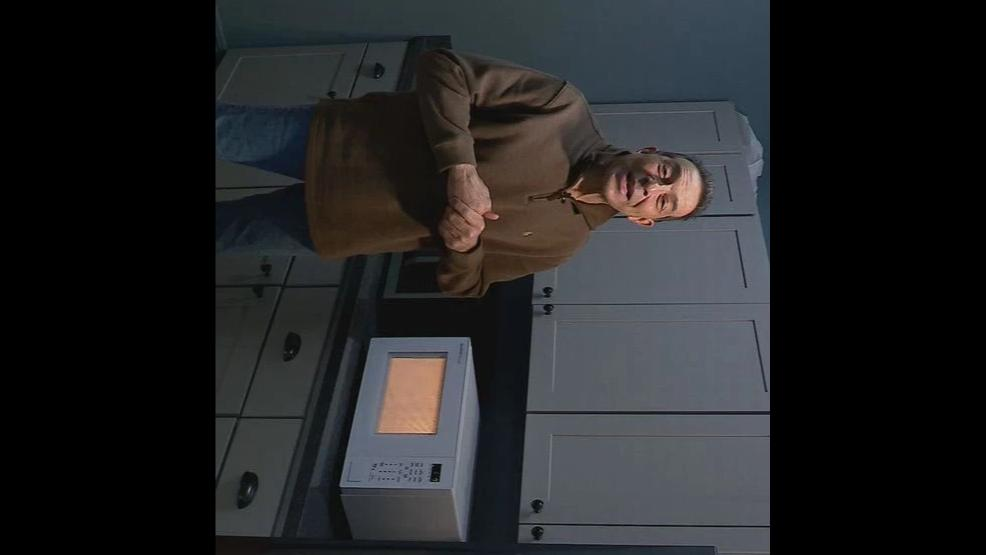controlled_fire: (362, 336, 462, 448)
